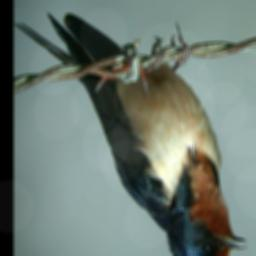Swallow: (14, 12, 248, 256)
